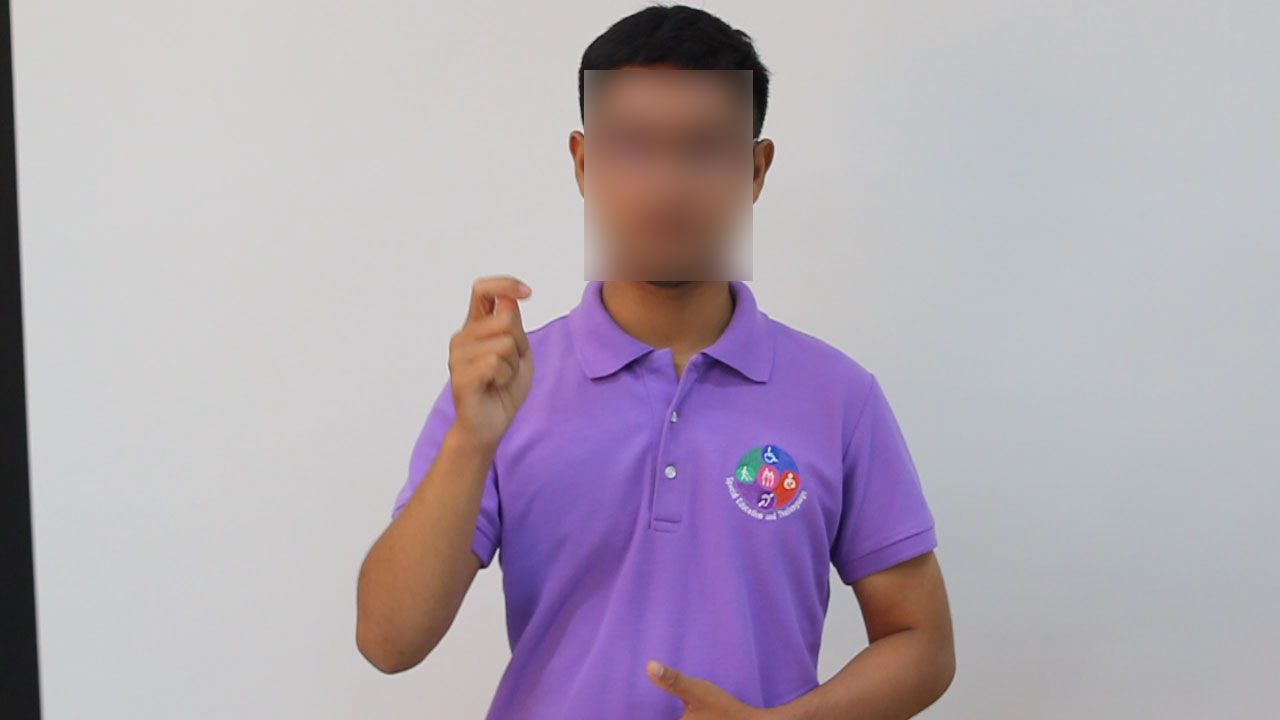or: (429, 266, 545, 459)
